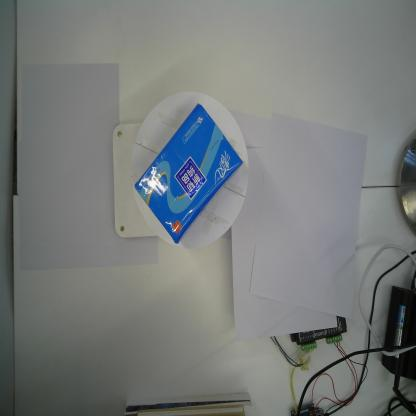Tissue: (133, 101, 247, 246)
